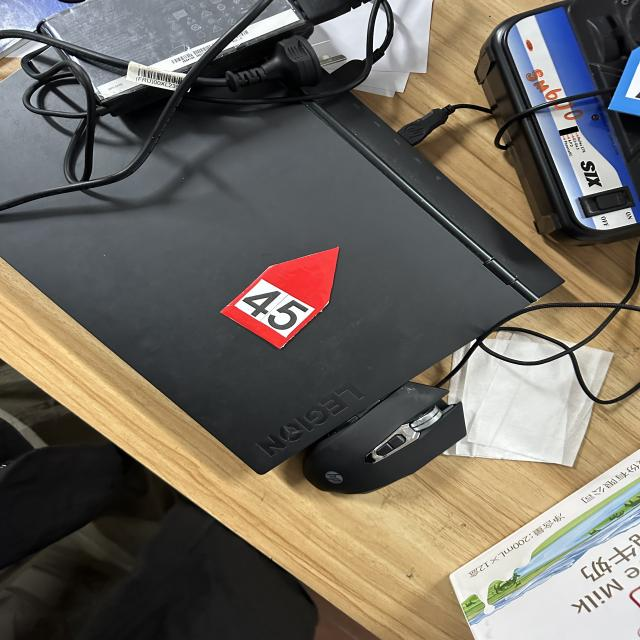board: (216, 246, 341, 353)
